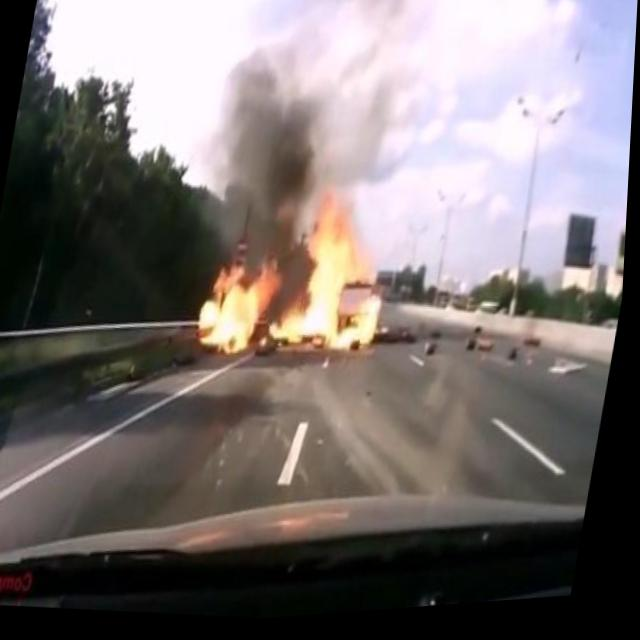fire: (190, 175, 411, 387)
